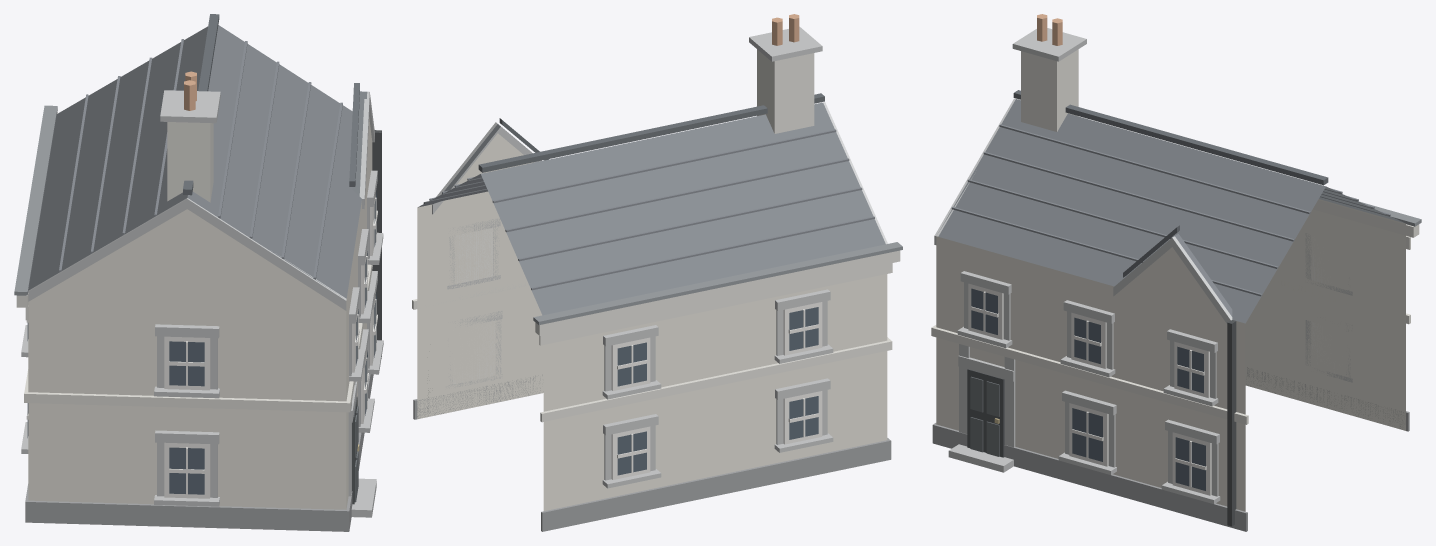
3 views of the same model, side by side, from view 1: azimuth 30°, elevation 25°; view 2: azimuth 150°, elevation 25°; view 3: azimuth 270°, elevation 25° (orthographic). The views are drawn at different scales.
Visible parts, largest first — view 1: harl_cream, slate, stone_band, plinth, slate_lt, string, frame, chim_render, lead, slate_dk, window_glass_010, window_glass_011 (+2 smaller); view 2: harl_cream, slate, string, stone_band, plinth, frame, slate_lt, chim_render, lead, slate_dk, window_glass_008, window_glass_007 (+3 smaller); view 3: harl_cream, slate, stone_band, plinth, frame, string, slate_lt, chim_render, slate_dk, pipe, door_dark_p, door_dark (+6 smaller).
Boxes of the visible parts, <box> form: harl_cream: <box>28,117,372,509</box>; slate: <box>28,25,367,298</box>; stone_band: <box>21,90,383,517</box>; plinth: <box>25,374,373,531</box>; slate_lt: <box>59,39,342,279</box>; string: <box>16,111,372,412</box>; frame: <box>26,195,377,498</box>; chim_render: <box>167,122,213,202</box>; lead: <box>14,105,57,295</box>; slate_dk: <box>183,14,359,195</box>; window_glass_010: <box>169,447,204,494</box>; window_glass_011: <box>169,341,204,386</box>; harl_cream: <box>417,133,887,510</box>; slate: <box>418,102,885,315</box>; string: <box>412,250,900,422</box>; stone_band: <box>432,26,887,488</box>; plinth: <box>413,374,891,531</box>; frame: <box>453,228,822,479</box>; slate_lt: <box>429,129,874,290</box>; chim_render: <box>757,49,814,133</box>; lead: <box>533,242,902,324</box>; slate_dk: <box>478,93,824,172</box>; window_glass_008: <box>789,396,818,439</box>; window_glass_007: <box>617,342,646,386</box>; harl_cream: <box>936,199,1405,511</box>; slate: <box>938,99,1403,323</box>; stone_band: <box>934,28,1352,503</box>; plinth: <box>932,367,1409,531</box>; frame: <box>968,236,1342,495</box>; string: <box>931,200,1419,424</box>; slate_lt: <box>951,124,1390,296</box>; chim_render: <box>1021,49,1078,131</box>; slate_dk: <box>1013,90,1328,277</box>; pipe: <box>1227,320,1236,526</box>; door_dark_p: <box>970,376,999,456</box>; door_dark: <box>967,369,1004,457</box>.
Size of the model in its own units: 10.18 by 9.28 by 10.75.
